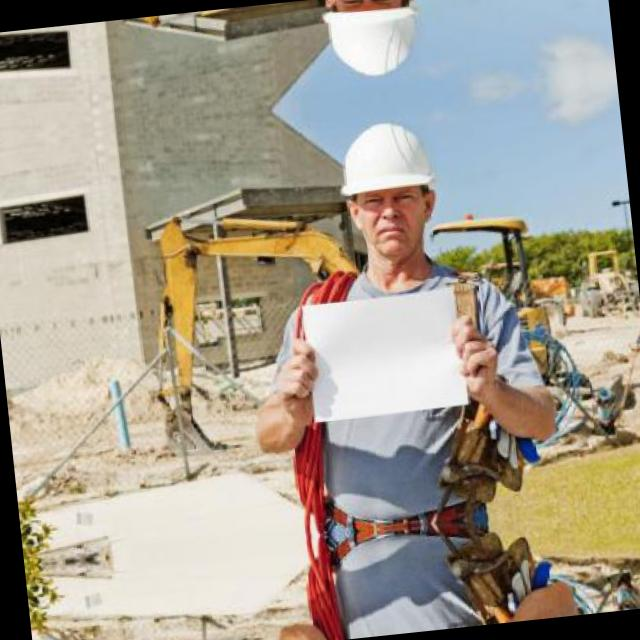helmet: (324, 105, 456, 278), (311, 0, 437, 93)
